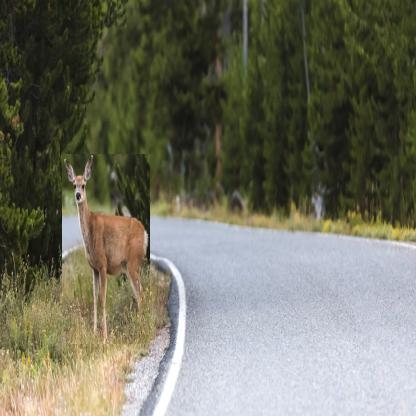Deer: (62, 154, 150, 344)
